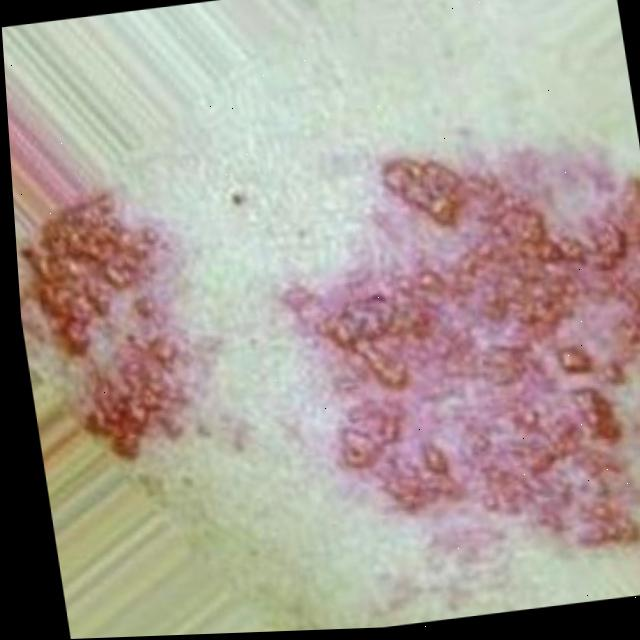Shingles: (279, 134, 640, 583), (11, 165, 222, 478)
